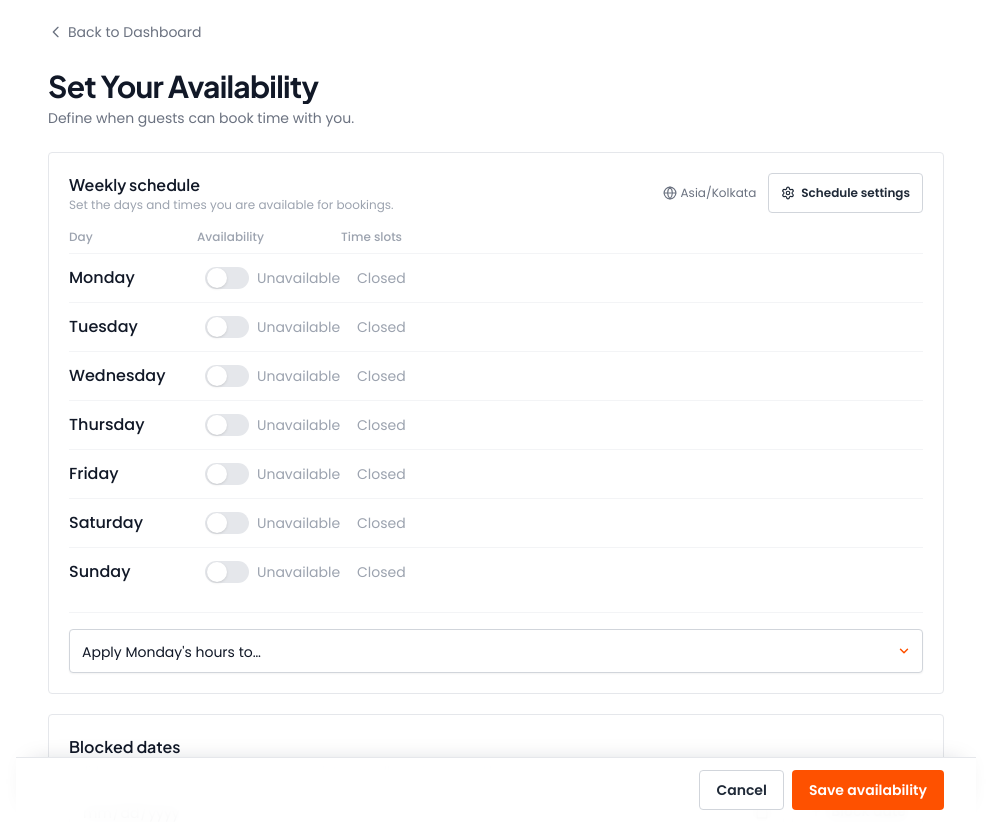
Scenario: Availability per-day toggle › opens a closed day and reveals its time inputs
This screenshot has width=993, height=822.
Toggle the first day on → a default window appears (start + end selects).
Click the switch named "Open monday" at (227, 278), box [205,267,249,289]
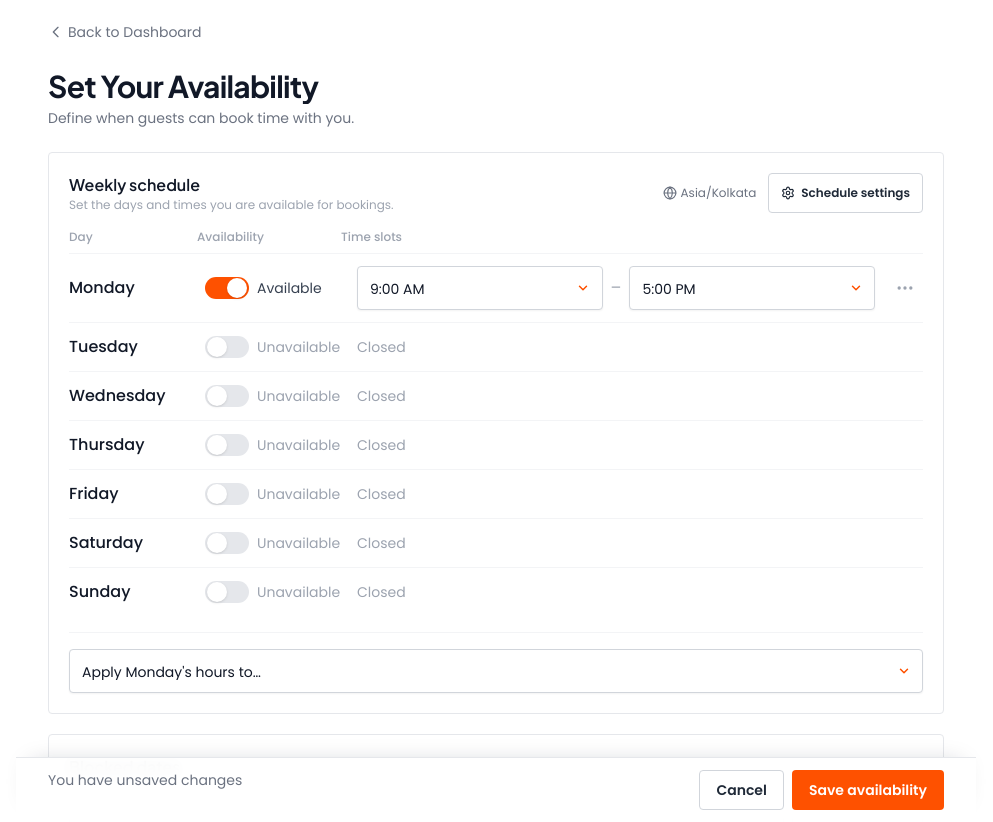
Check: the number of dropdowns is 5
Toggle it back off → the two window selects disappear.
Click the switch named "Close monday" at (227, 288), box [205,277,249,299]
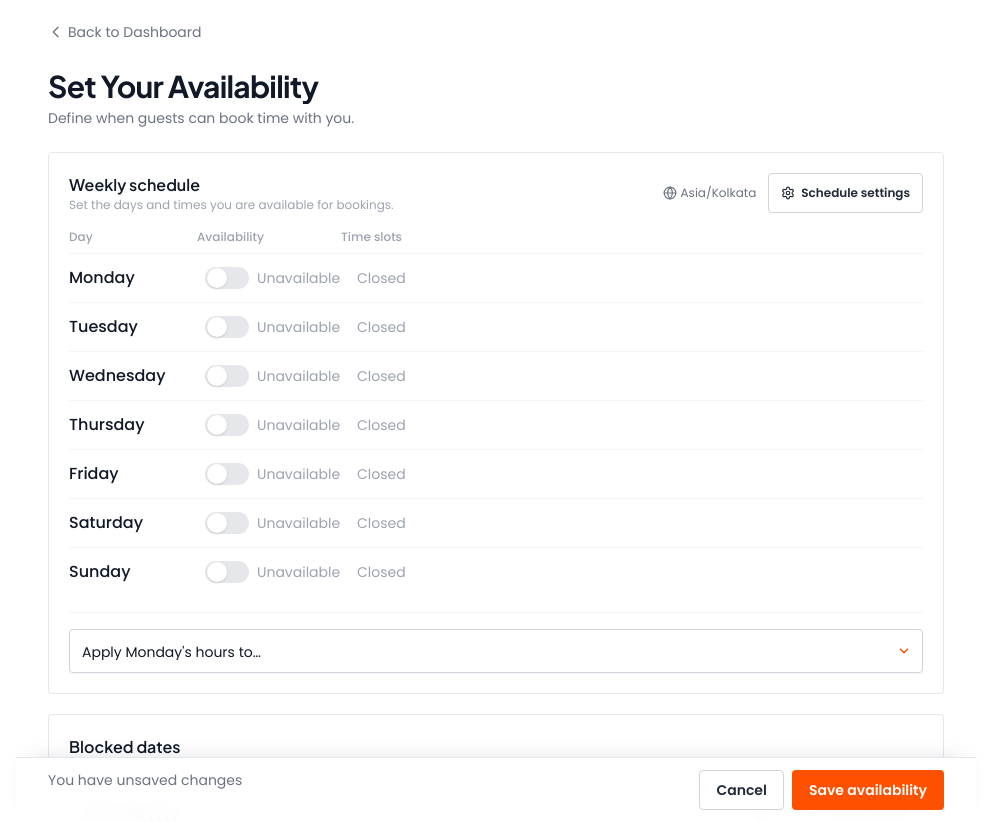
Check: the number of dropdowns is 3
